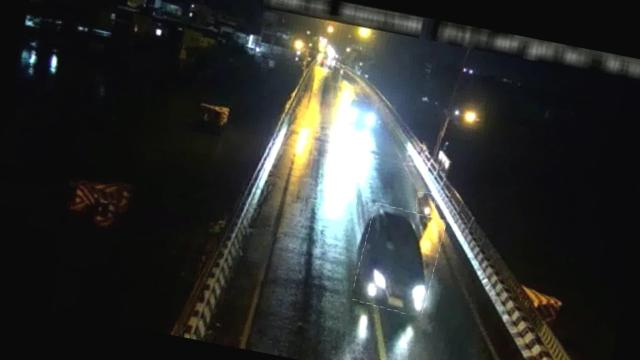Bike: (412, 190, 438, 223)
Car: (352, 202, 446, 316)
